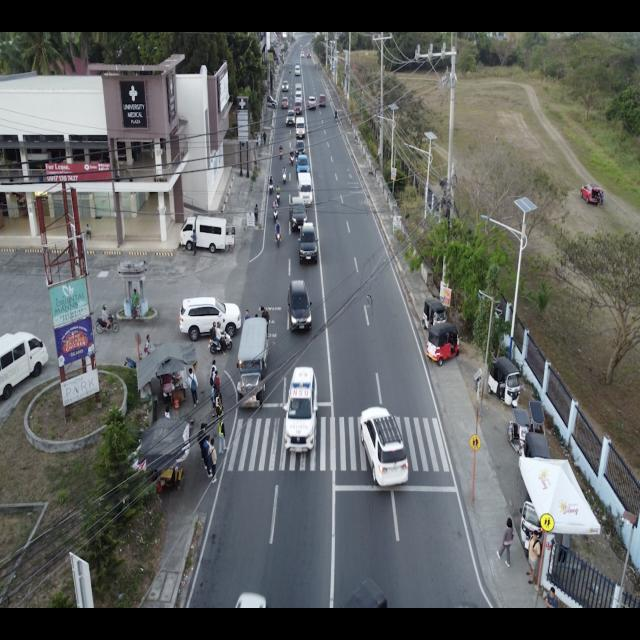car: (360, 405, 410, 488), (282, 366, 319, 455), (236, 316, 270, 412), (178, 296, 242, 342), (180, 214, 236, 256), (287, 278, 313, 335), (297, 222, 319, 266), (288, 196, 308, 234), (296, 171, 314, 208), (580, 182, 602, 205), (295, 154, 310, 181), (294, 116, 306, 140), (294, 140, 307, 158), (285, 108, 297, 126), (266, 94, 278, 109), (293, 100, 303, 116), (308, 96, 316, 111), (294, 82, 302, 96), (281, 96, 289, 110), (318, 94, 326, 108), (294, 92, 303, 104), (282, 80, 290, 92), (294, 66, 301, 76)
motorcycle: (505, 401, 548, 462), (486, 357, 524, 408), (425, 325, 462, 366), (520, 490, 542, 558), (421, 295, 447, 332), (208, 321, 233, 356), (94, 303, 120, 336), (274, 219, 282, 249), (272, 199, 279, 224), (275, 184, 281, 206), (268, 175, 274, 195), (282, 165, 288, 185), (289, 148, 294, 166), (279, 143, 283, 160), (334, 110, 338, 123), (289, 66, 291, 73)
person: (496, 516, 514, 568), (526, 530, 542, 586), (207, 438, 219, 487), (187, 368, 200, 408), (202, 434, 213, 479), (216, 416, 228, 456), (545, 586, 559, 609), (131, 288, 140, 321), (210, 382, 218, 419), (143, 332, 153, 358), (216, 397, 224, 428), (214, 386, 223, 412), (190, 229, 198, 257), (210, 358, 218, 384), (214, 369, 220, 394), (210, 366, 216, 390), (254, 203, 259, 224), (263, 132, 267, 146)
